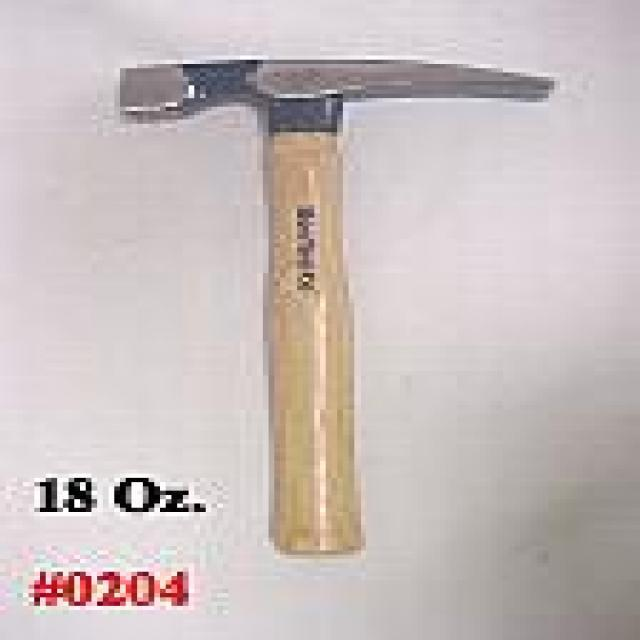hammer: (102, 44, 561, 558)
